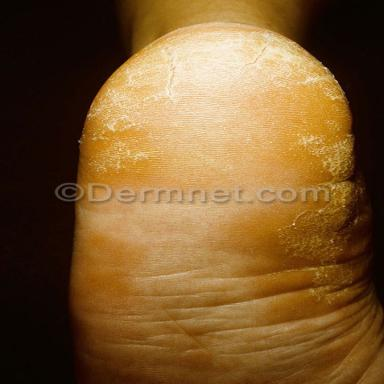eczema: (82, 25, 366, 307)
